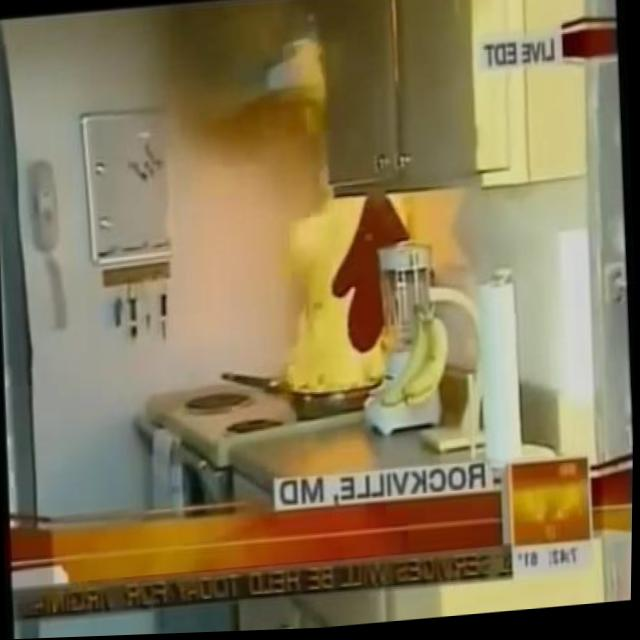fire: (282, 199, 375, 405)
